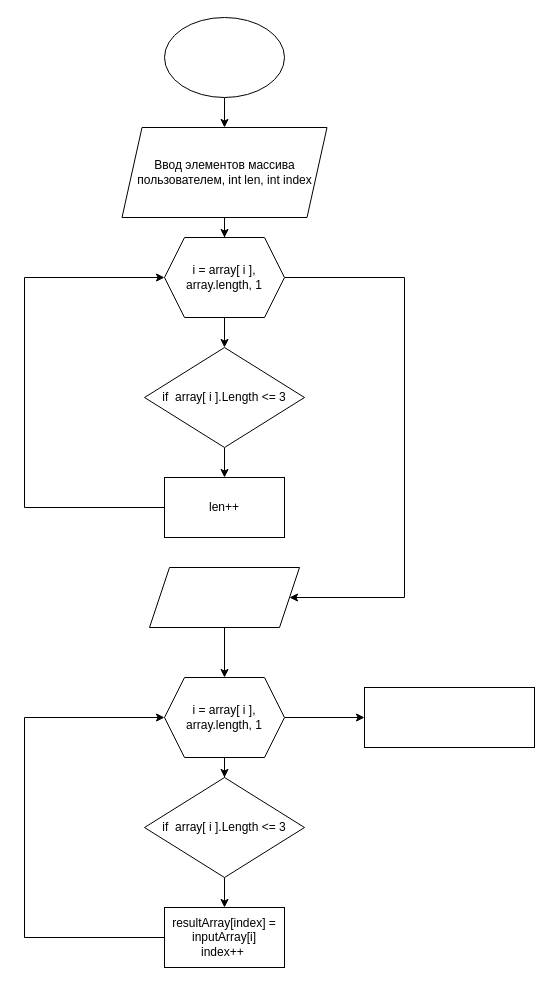
This 552x985 diagram has some shape labels left out. The centre of each missing label's shape, as x and y in pixels:
"Console.writeline(resultArray) END" goes at [449,717].
"Задача" goes at [224,57].
"создание пустого финального массива" goes at [224,597].
